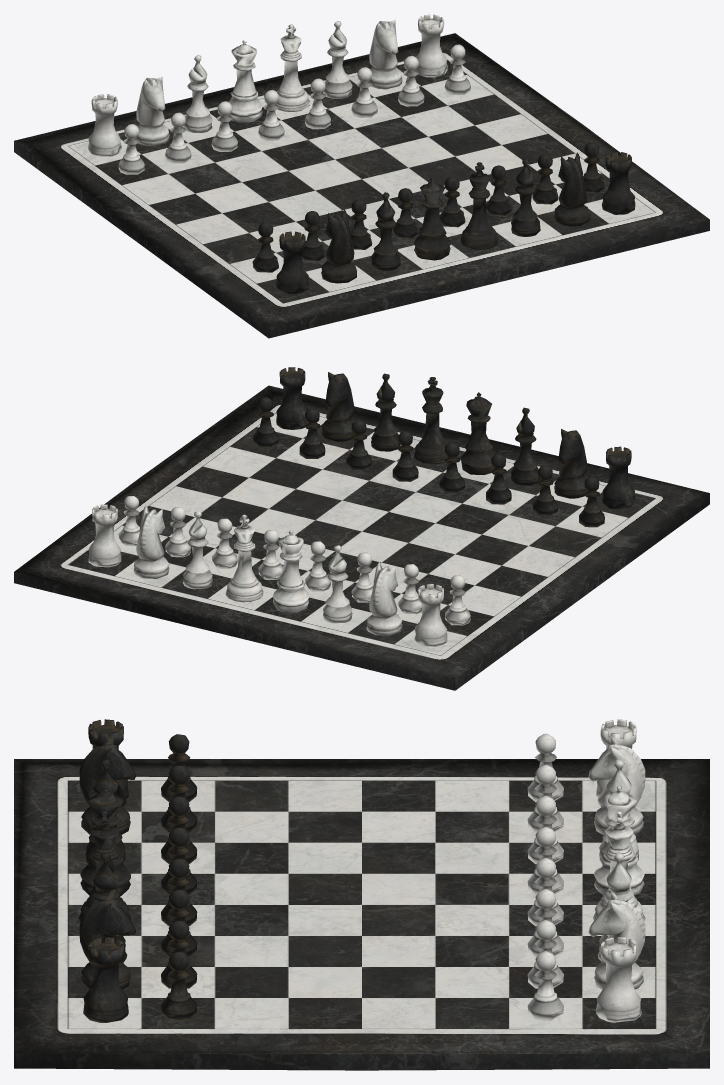
File: chess_set.gltf
The picture shows the model from 3 angles, top to bottom: view 1: azimuth 30°, elevation 25°; view 2: azimuth 150°, elevation 25°; view 3: azimuth 270°, elevation 25°; orthographic projection. The views are drawn at different scales.
Parts seen in each view (by area): view 1: board, piece_queen_black, piece_queen_white, piece_knight_black_01, piece_knight_black_02, piece_knight_white_02, piece_knight_white_01, piece_king_black, piece_king_white, piece_rook_black_01, piece_rook_white_02, piece_rook_black_02 (+21 smaller); view 2: board, piece_queen_white, piece_knight_white_02, piece_knight_white_01, piece_queen_black, piece_knight_black_02, piece_knight_black_01, piece_king_white, piece_king_black, piece_rook_white_02, piece_rook_white_01, piece_rook_black_01 (+21 smaller); view 3: board, piece_rook_black_02, piece_rook_white_01, piece_knight_black_02, piece_knight_white_01, piece_knight_white_02, piece_knight_black_01, piece_queen_black, piece_queen_white, piece_pawn_black_08, piece_pawn_white_01, piece_king_black (+21 smaller).
Boxes of the visible parts, bbox=[...] form: board: bbox=[14, 33, 709, 338]; piece_queen_black: bbox=[414, 177, 450, 260]; piece_queen_white: bbox=[228, 40, 262, 122]; piece_knight_black_01: bbox=[321, 209, 356, 283]; piece_knight_black_02: bbox=[554, 152, 589, 226]; piece_knight_white_02: bbox=[136, 76, 169, 146]; piece_knight_white_01: bbox=[369, 19, 402, 89]; piece_king_black: bbox=[460, 162, 498, 249]; piece_king_white: bbox=[276, 24, 309, 111]; piece_rook_black_01: bbox=[275, 231, 309, 294]; piece_rook_white_02: bbox=[88, 94, 121, 156]; piece_rook_black_02: bbox=[602, 152, 635, 214]; board: bbox=[14, 385, 709, 690]; piece_queen_white: bbox=[273, 530, 309, 612]; piece_knight_white_02: bbox=[366, 562, 402, 635]; piece_knight_white_01: bbox=[133, 505, 169, 578]; piece_queen_black: bbox=[460, 392, 495, 474]; piece_knight_black_02: bbox=[321, 372, 354, 441]; piece_knight_black_01: bbox=[554, 429, 587, 498]; piece_king_white: bbox=[225, 514, 263, 602]; piece_king_black: bbox=[414, 377, 447, 463]; piece_rook_white_02: bbox=[414, 584, 447, 646]; piece_rook_white_01: bbox=[88, 504, 121, 567]; piece_rook_black_01: bbox=[602, 446, 635, 509]; board: bbox=[14, 759, 709, 1070]; piece_rook_black_02: bbox=[83, 937, 128, 1022]; piece_rook_white_01: bbox=[596, 937, 641, 1022]; piece_knight_black_02: bbox=[79, 891, 136, 989]; piece_knight_white_01: bbox=[588, 891, 645, 989]; piece_knight_white_02: bbox=[588, 736, 645, 834]; piece_knight_black_01: bbox=[79, 736, 136, 834]; piece_queen_black: bbox=[80, 785, 130, 896]; piece_queen_white: bbox=[593, 785, 644, 895]; piece_pawn_black_08: bbox=[161, 951, 197, 1020]; piece_pawn_white_01: bbox=[527, 951, 563, 1020]; piece_king_black: bbox=[78, 811, 130, 922].
Bounding box in the file's own units: 0.5507 × 0.1102 × 0.5482.
3 materials, 3 textured.
